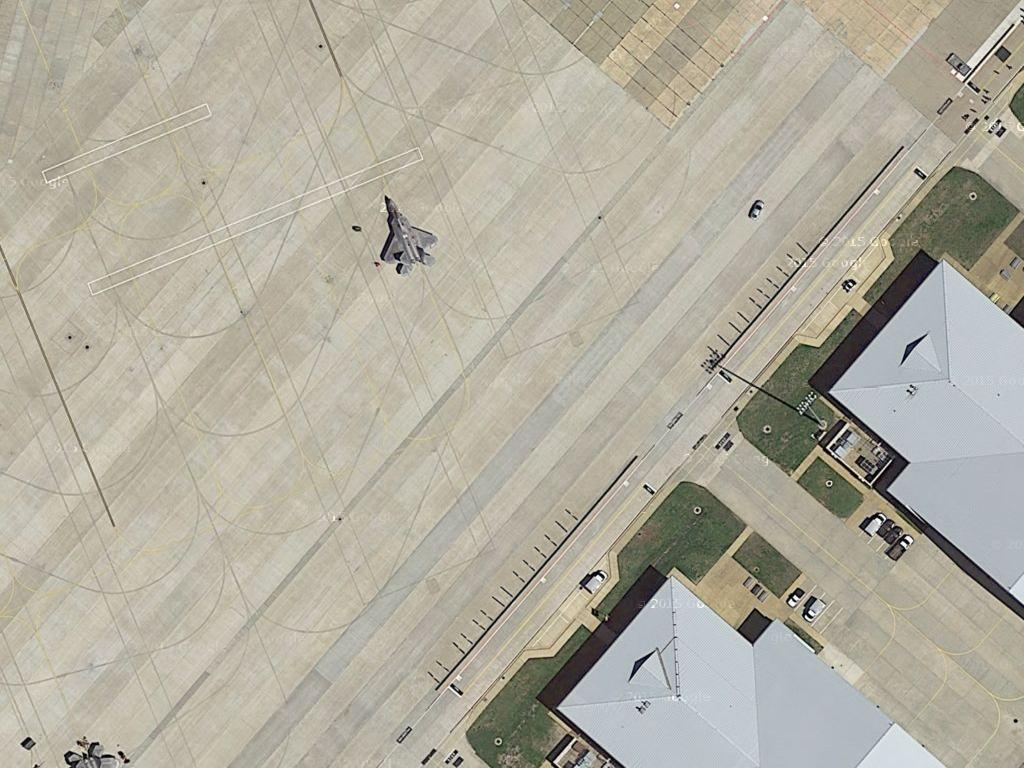F-22: (377, 188, 441, 278)
